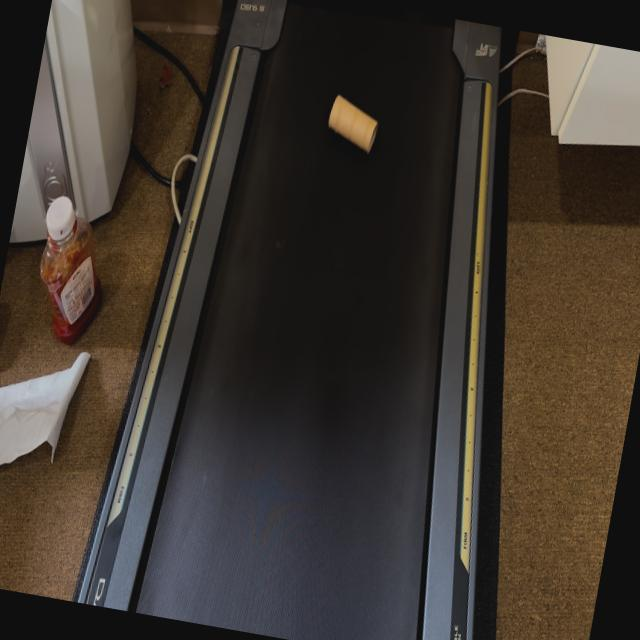Recycle: (322, 90, 388, 155)
